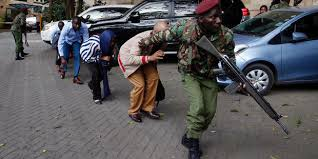rifle: (196, 34, 292, 141)
